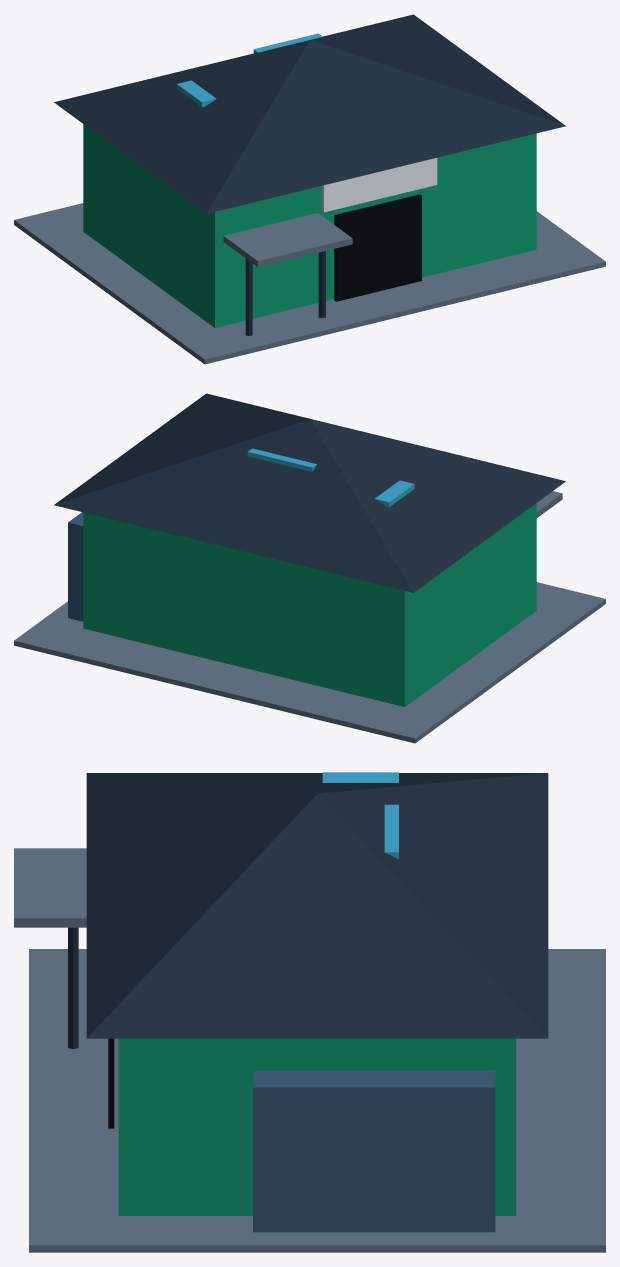
File: emergency-shelter.obj
3 views of the same model, one above another, from view 1: azimuth 30°, elevation 25°; view 2: azimuth 150°, elevation 25°; view 3: azimuth 270°, elevation 25° (orthographic). The views are drawn at different scales.
Visible parts, largest first — view 1: Roof, Main hall, Foundation, Entry, Canopy, Shelter sign, Canopy post, Solar array; view 2: Roof, Main hall, Foundation, Service wing, Solar array; view 3: Roof, Foundation, Service wing, Main hall, Canopy, Solar array, Canopy post, Entry.
Part boxes in pixels (x1=…): Roof: x1=54, y1=14, x2=565, y2=213; Main hall: x1=83, y1=124, x2=536, y2=327; Foundation: x1=14, y1=203, x2=605, y2=364; Entry: x1=334, y1=194, x2=421, y2=301; Canopy: x1=223, y1=213, x2=352, y2=267; Shelter sign: x1=321, y1=158, x2=437, y2=212; Canopy post: x1=245, y1=251, x2=325, y2=335; Solar array: x1=177, y1=33, x2=322, y2=107; Roof: x1=54, y1=393, x2=565, y2=592; Main hall: x1=83, y1=503, x2=536, y2=706; Foundation: x1=14, y1=582, x2=605, y2=743; Service wing: x1=68, y1=512, x2=83, y2=621; Solar array: x1=247, y1=448, x2=414, y2=507; Roof: x1=86, y1=773, x2=548, y2=1038; Foundation: x1=29, y1=949, x2=605, y2=1252; Service wing: x1=253, y1=1071, x2=495, y2=1232; Main hall: x1=118, y1=1038, x2=516, y2=1215; Canopy: x1=14, y1=848, x2=86, y2=927; Solar array: x1=322, y1=772, x2=398, y2=858; Canopy post: x1=68, y1=927, x2=78, y2=1049; Entry: x1=108, y1=1038, x2=114, y2=1128.
Bounding box in the file's own units: 6.8 × 3.33 × 5.74.
